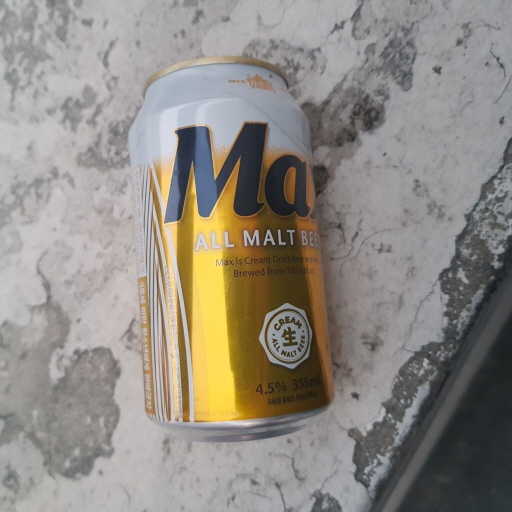Metal_0: (125, 52, 337, 441)
